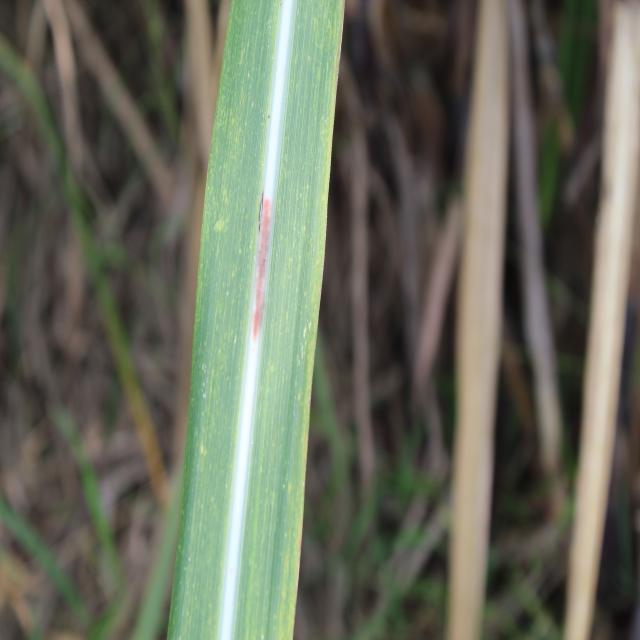Sugarcane: (172, 3, 346, 640)
